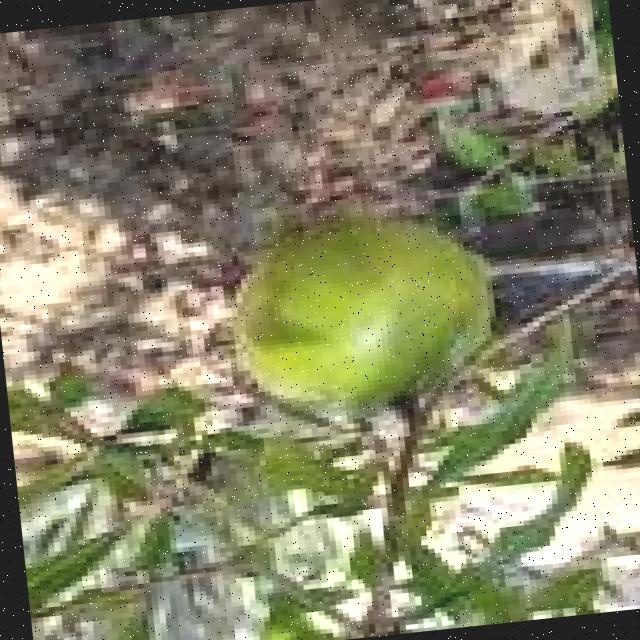Unripe: (226, 184, 507, 426)
